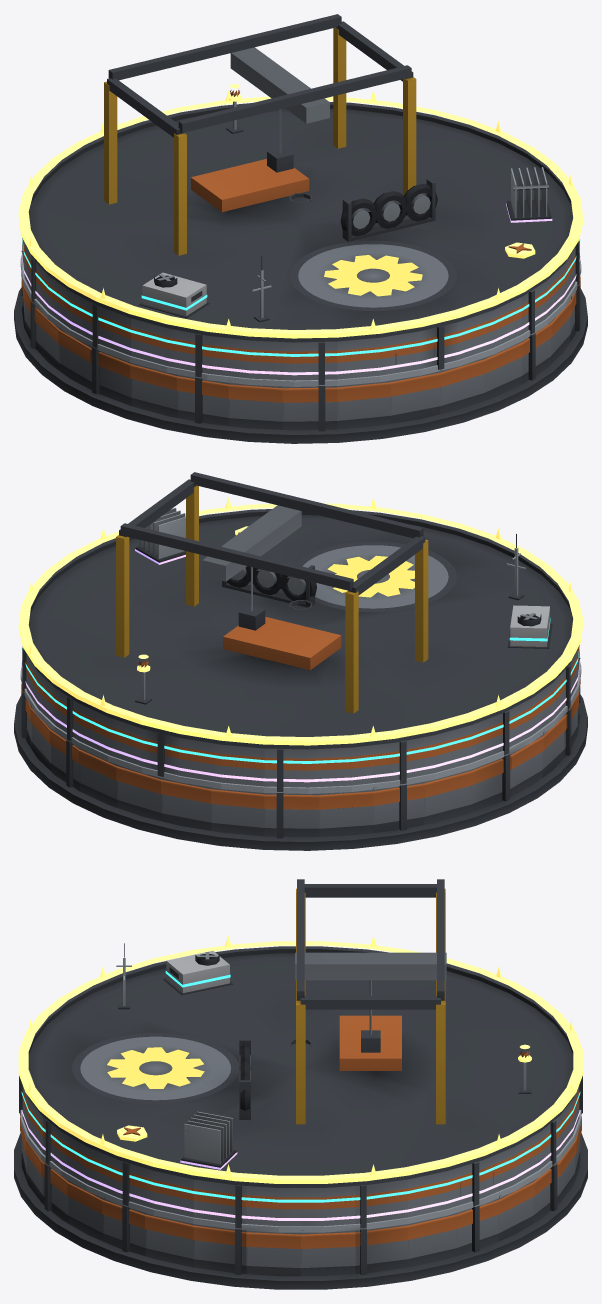
File: parts_works_m_far.glb
3 views of the same model, one above another, from view 1: azimuth 30°, elevation 25°; view 2: azimuth 150°, elevation 25°; view 3: azimuth 270°, elevation 25° (orthographic).
Visible parts, largest first — view 1: Roof, Base, L5, L2, L3, L4; view 2: Roof, Base, L5, L2, L3, L4; view 3: Roof, Base, L5, L2, L4, L3.
Boxes of the visible parts, x1=… form: Roof: x1=22, y1=14, x2=579, y2=384; Base: x1=14, y1=250, x2=587, y2=443; L5: x1=18, y1=84, x2=583, y2=338; L2: x1=20, y1=252, x2=581, y2=386; L3: x1=22, y1=193, x2=580, y2=356; L4: x1=21, y1=167, x2=580, y2=375; Roof: x1=22, y1=472, x2=579, y2=791; Base: x1=14, y1=657, x2=587, y2=850; L5: x1=18, y1=497, x2=583, y2=745; L2: x1=20, y1=534, x2=581, y2=793; L3: x1=21, y1=600, x2=579, y2=763; L4: x1=21, y1=507, x2=580, y2=782; Roof: x1=19, y1=879, x2=582, y2=1228; Base: x1=14, y1=1113, x2=587, y2=1289; L5: x1=18, y1=935, x2=583, y2=1183; L2: x1=20, y1=943, x2=581, y2=1232; L4: x1=21, y1=1110, x2=580, y2=1220; L3: x1=21, y1=951, x2=580, y2=1202.
Bounding box in the file's own units: 14.75 × 6.53 × 14.75.
